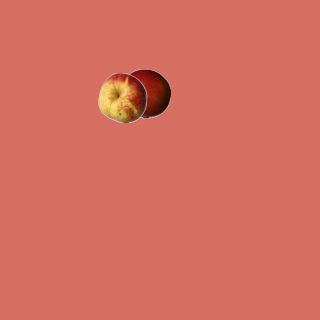Apple Braeburn: (120, 68, 170, 118)
Apple Red Yellow 1: (97, 72, 147, 122)
